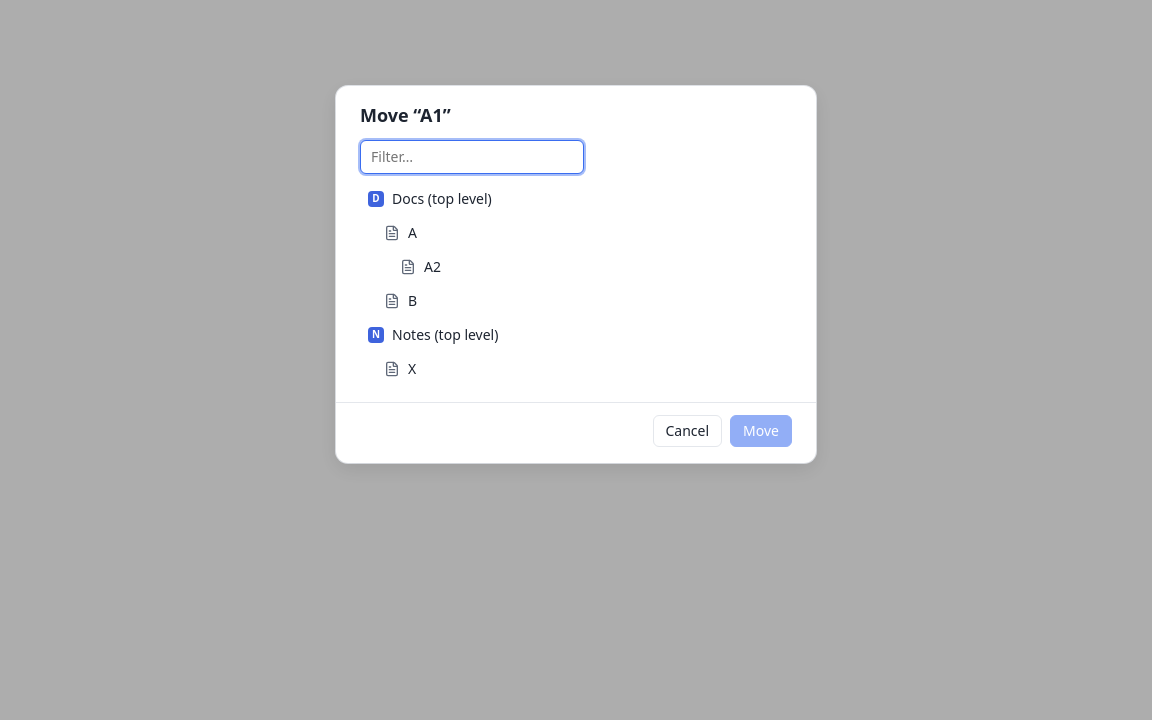
Move dialog › moving sends the new parent without a position (last), across collections too
The image size is (1152, 720).
Click the option "X". click: x=400, y=369
box: x1=384 y1=359 x2=416 y2=378
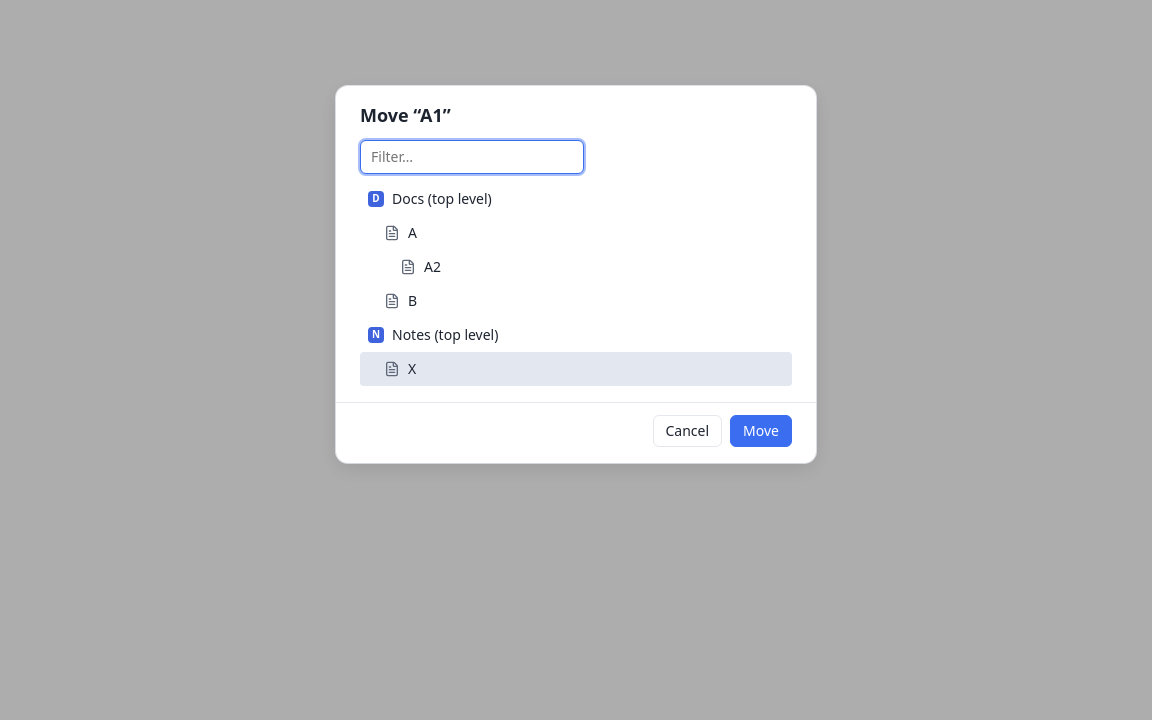
Click the button "Move". click: x=761, y=431
box: x1=730 y1=415 x2=792 y2=447
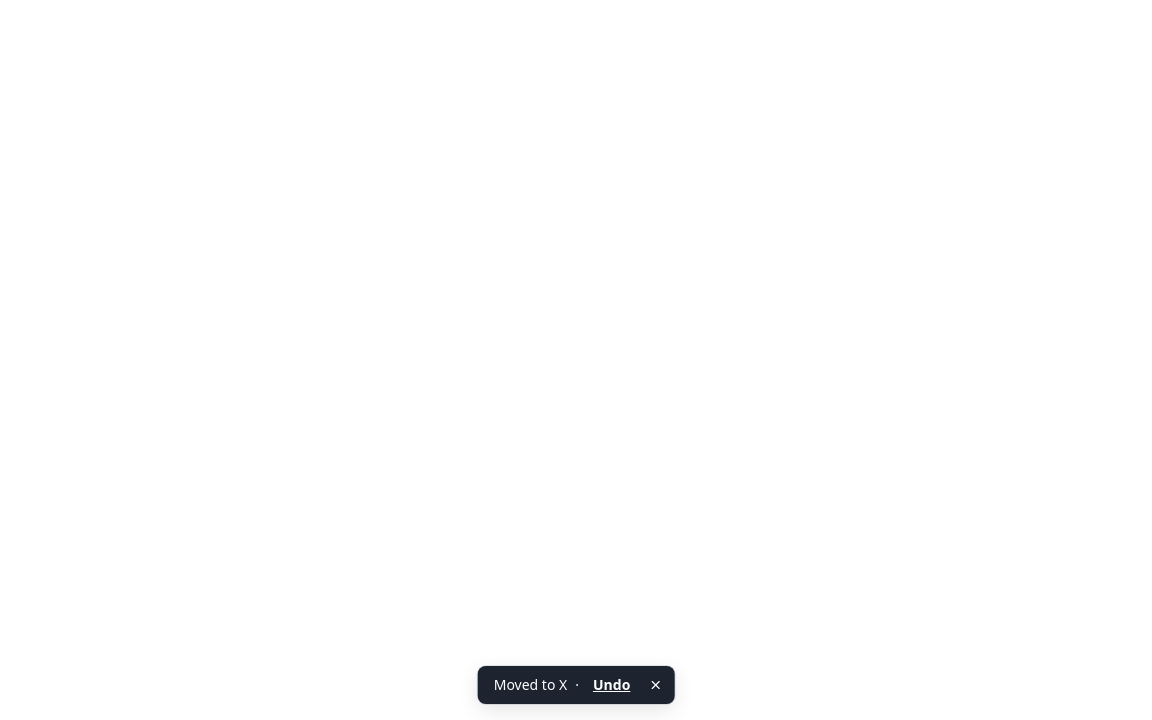
Now the heading "Move “A1”" is gone
Now the message shows "Moved to X", box x1=494 y1=675 x2=567 y2=694
